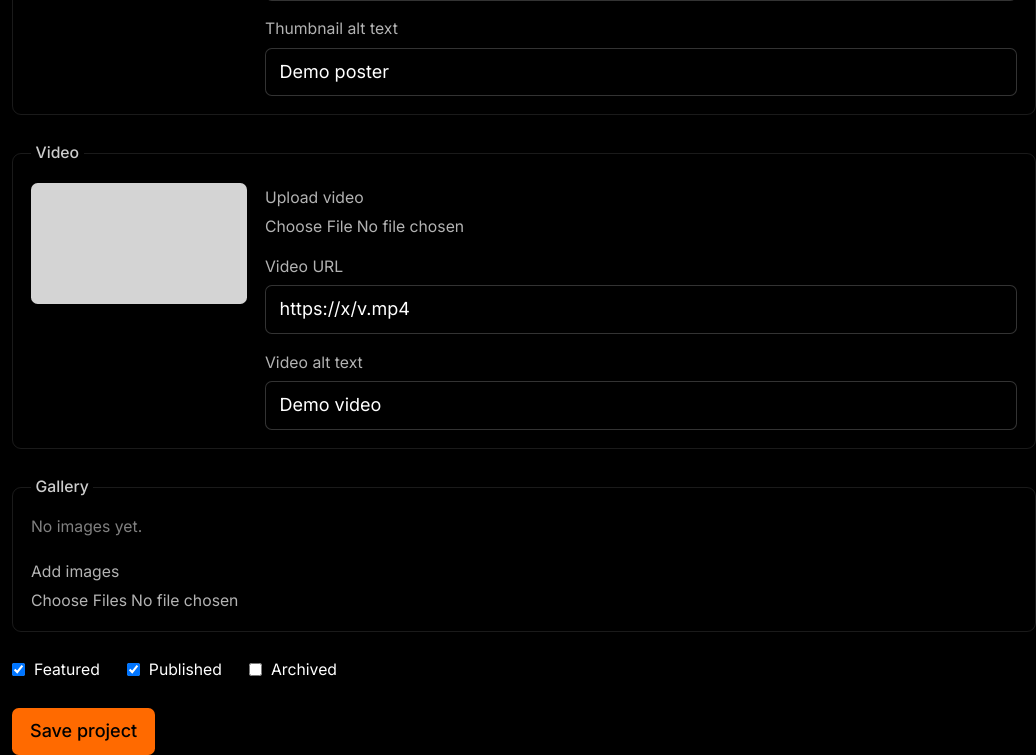
ProjectForm after a successful edit › refreshes the route so sibling forms see the new slug
This screenshot has width=1036, height=755.
(page scrolled)
Step 1. Click the button "Save project" → click(84, 732), box left=12, top=708, right=155, bottom=754
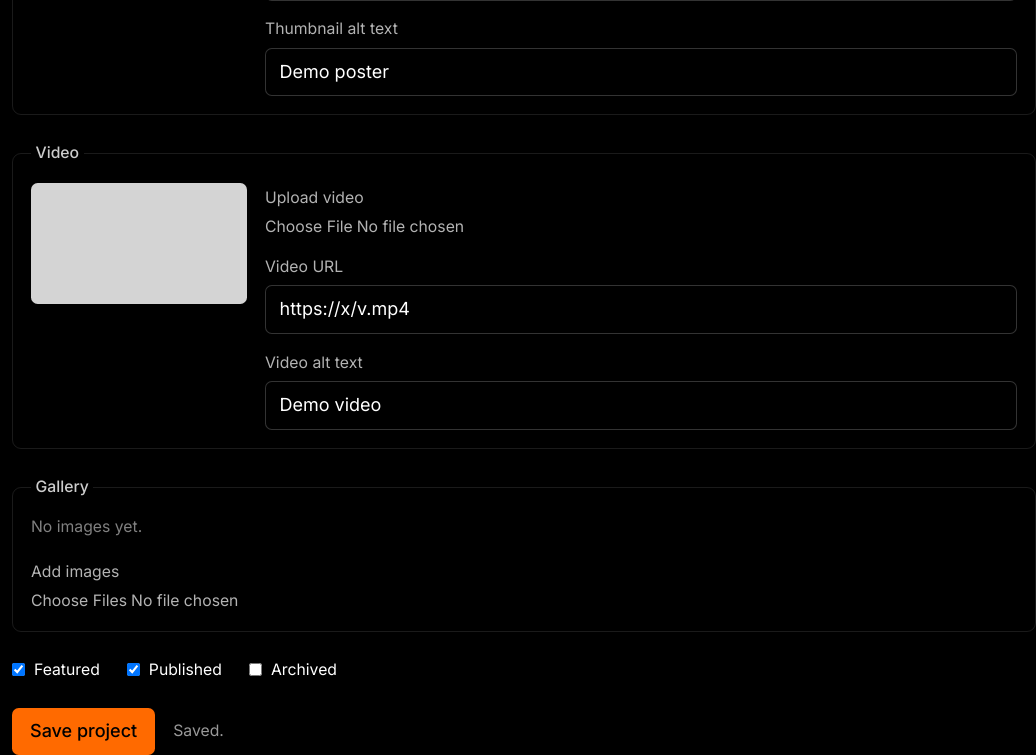
Now the text "Saved." is shown, box left=173, top=720, right=224, bottom=743
